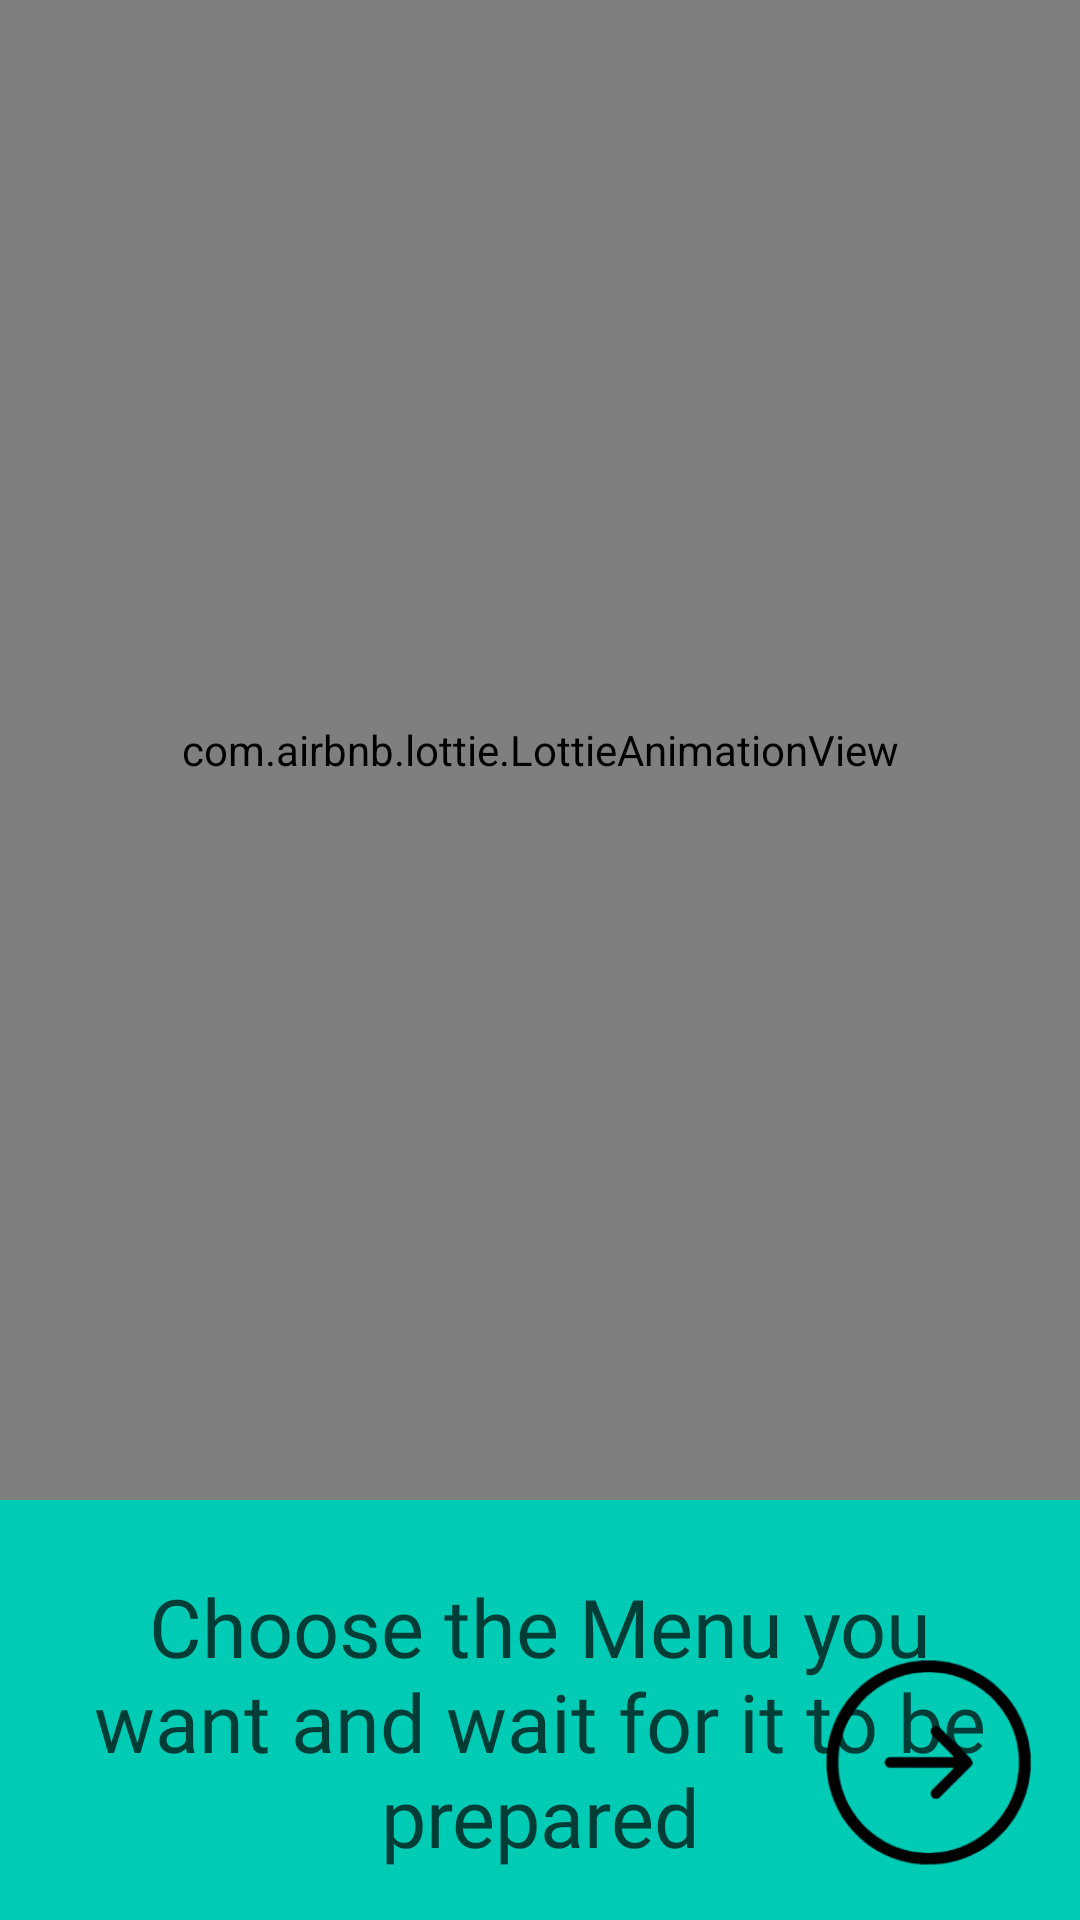

Icon click points for this 1080px×1920px phone screenshot, format [x,y]:
nextarr: [928,1759]
